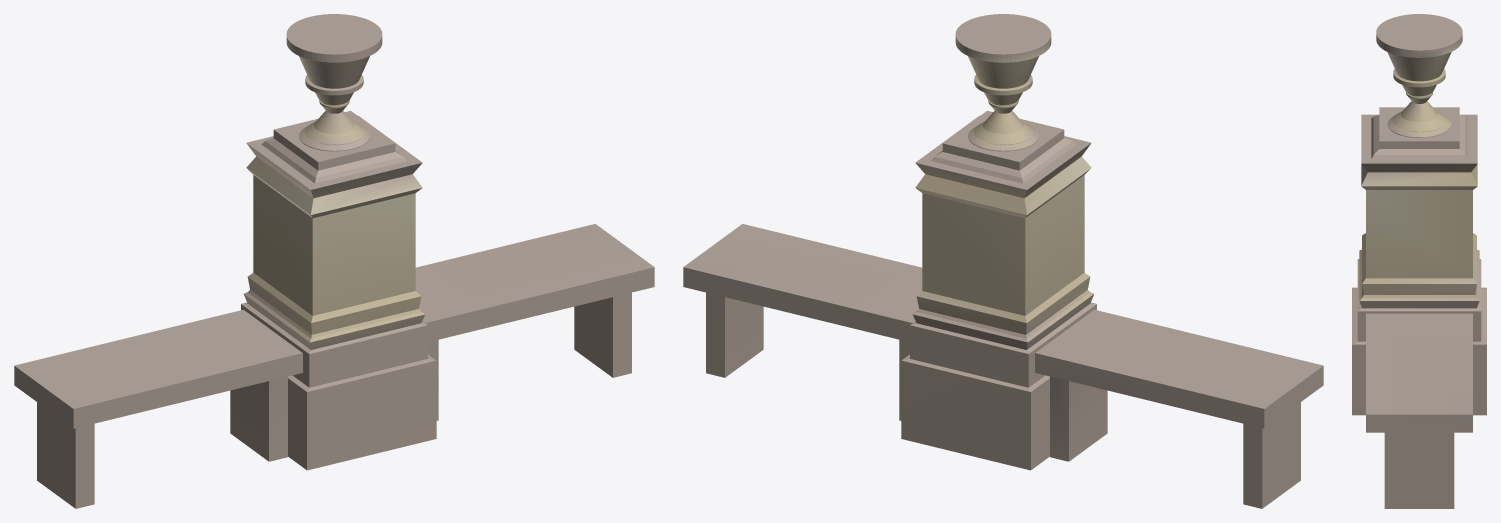
Rendered from stone bench thingy.fbx.
3 views of the same model, side by side, from view 1: azimuth 30°, elevation 25°; view 2: azimuth 150°, elevation 25°; view 3: azimuth 270°, elevation 25° (orthographic). The views are drawn at different scales.
Visible parts, largest first — view 1: Cube.001; view 2: Cube.001; view 3: Cube.001.
Boxes of the visible parts, bbox=[...] form: Cube.001: bbox=[14, 14, 654, 508]; Cube.001: bbox=[683, 14, 1323, 508]; Cube.001: bbox=[1352, 14, 1486, 508].
Bounding box in the file's own units: 1131 × 731 × 252.
